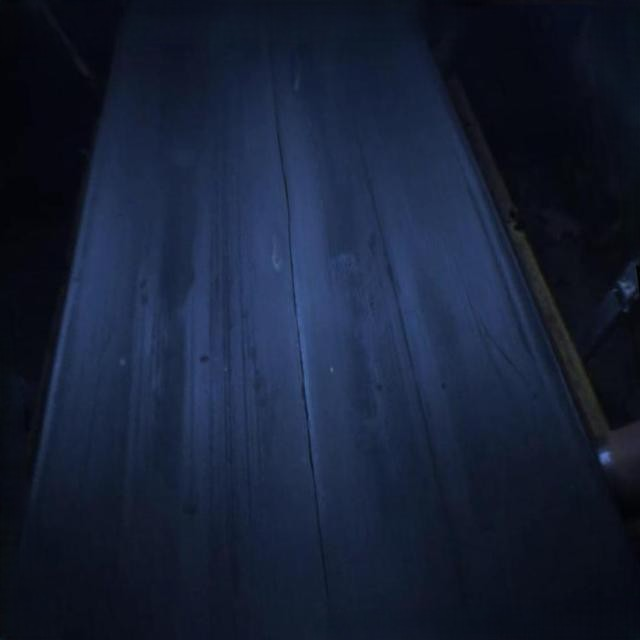Tear: (262, 54, 342, 636)
